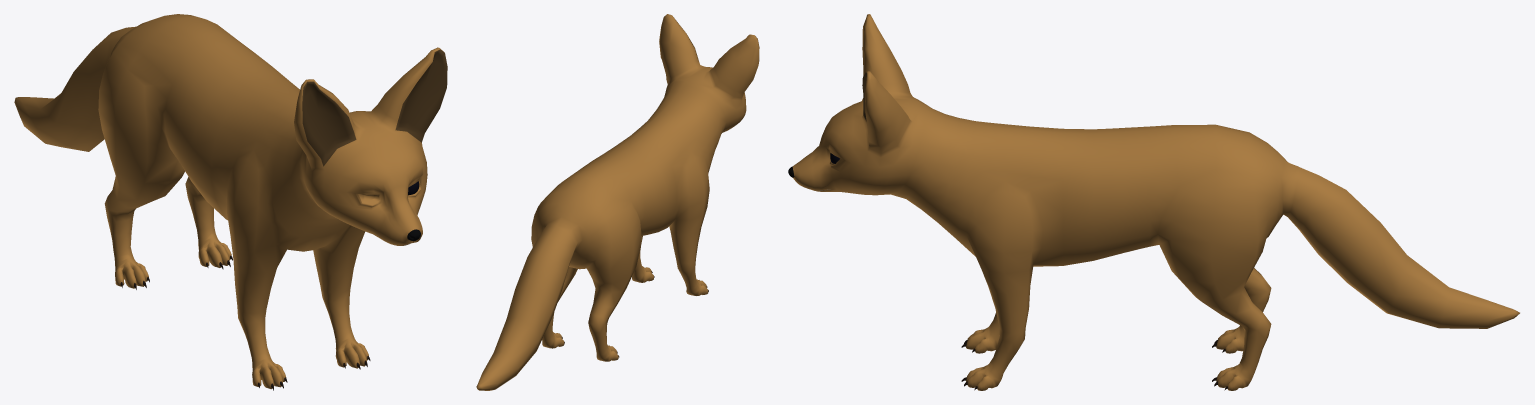
The model's file is fennec_fox.obj.
3 views of the same model, side by side, from view 1: azimuth 30°, elevation 25°; view 2: azimuth 150°, elevation 25°; view 3: azimuth 270°, elevation 25° (orthographic). The views are drawn at different scales.
Parts seen in each view (by area): view 1: fennec_fox; view 2: fennec_fox; view 3: fennec_fox.
Boxes of the visible parts, box(x1,y1,x2,y2) form: fennec_fox: box(14, 14, 447, 390); fennec_fox: box(476, 14, 759, 390); fennec_fox: box(788, 14, 1519, 390).
Size of the model in its own units: 0.1338 by 0.2981 by 0.611.
